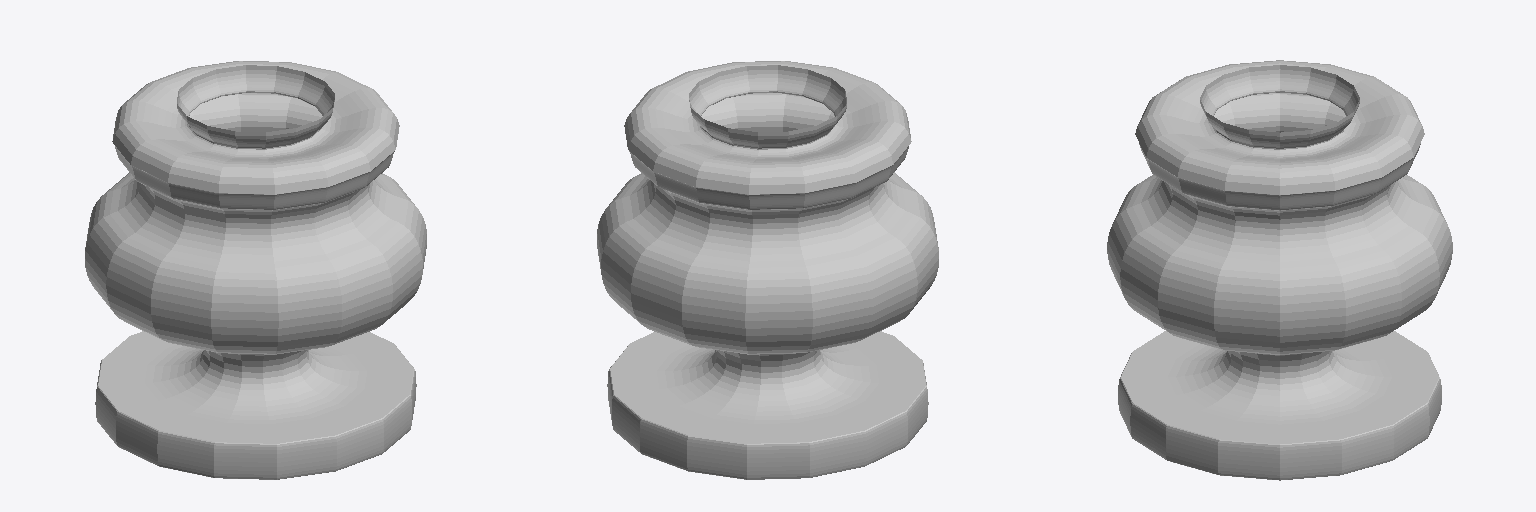
File: birthdayvase.obj
3 views of the same model, side by side, from view 1: azimuth 30°, elevation 25°; view 2: azimuth 150°, elevation 25°; view 3: azimuth 270°, elevation 25° (orthographic).
Parts seen in each view (by area): view 1: BezierCurve; view 2: BezierCurve; view 3: BezierCurve.
Boxes of the visible parts, x1=… form: BezierCurve: x1=85, y1=61, x2=426, y2=479; BezierCurve: x1=597, y1=61, x2=938, y2=479; BezierCurve: x1=1107, y1=60, x2=1452, y2=480.
Size of the model in its own units: 6.51 by 6.54 by 6.51.